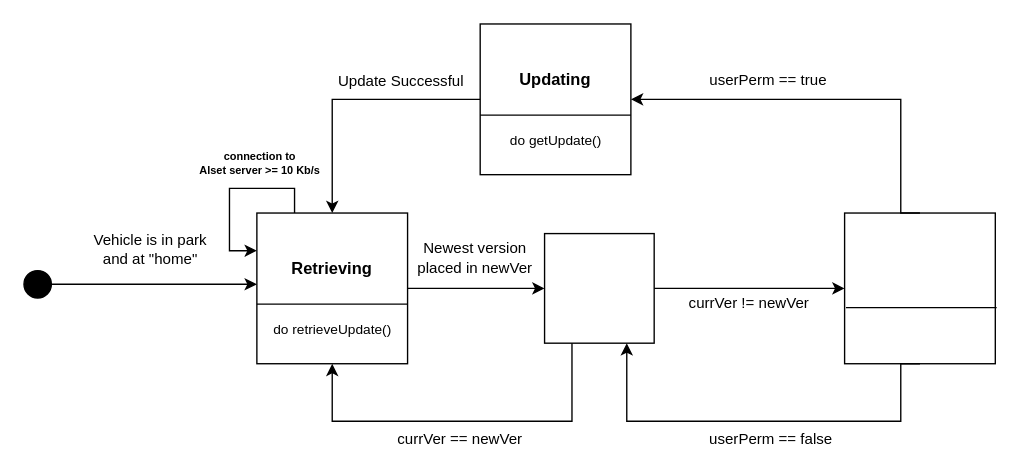
Some shapes in this 1022 by 471 pixel diagram are drawn without their labels. The centre of each missing label's shape, as x and y in pixels:
"Comparing" goes at pixel 598 287.
"User Permission do promptUser() do queryUser()" goes at pixel 919 288.
